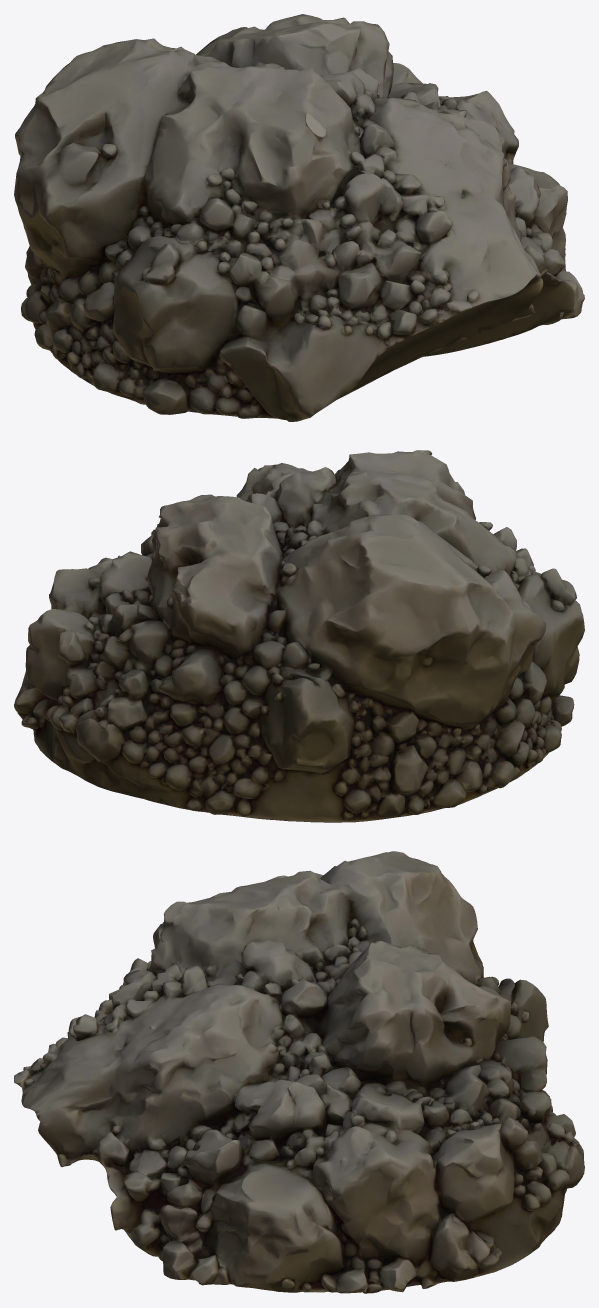
The model's file is iron-ore-deposit.glb.
3 views of the same model, one above another, from view 1: azimuth 30°, elevation 25°; view 2: azimuth 150°, elevation 25°; view 3: azimuth 270°, elevation 25° (orthographic). The views are drawn at different scales.
Parts seen in each view (by area): view 1: tripo_node_ac35504a-b612-48d8-b0c1-78003b87a8d0; view 2: tripo_node_ac35504a-b612-48d8-b0c1-78003b87a8d0; view 3: tripo_node_ac35504a-b612-48d8-b0c1-78003b87a8d0.
Part boxes in pixels (x1=…): tripo_node_ac35504a-b612-48d8-b0c1-78003b87a8d0: x1=14, y1=14, x2=584, y2=421; tripo_node_ac35504a-b612-48d8-b0c1-78003b87a8d0: x1=14, y1=450, x2=584, y2=822; tripo_node_ac35504a-b612-48d8-b0c1-78003b87a8d0: x1=14, y1=851, x2=584, y2=1293.
Size of the model in its own units: 0.9934 by 0.5073 by 1.
Materials: 1 (1 with a texture image).
